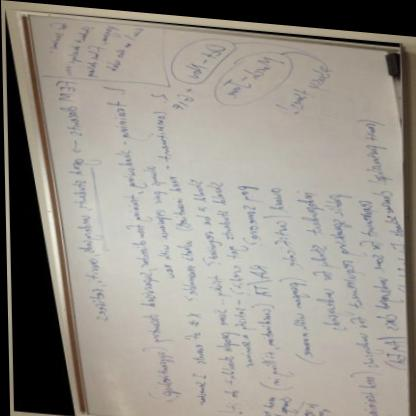Handwritten text: (97, 90, 178, 350), (317, 179, 380, 368), (61, 149, 118, 329), (149, 101, 201, 298), (292, 176, 345, 329), (349, 188, 403, 330), (37, 15, 145, 85), (197, 169, 252, 293), (357, 110, 405, 238), (140, 155, 178, 283), (214, 42, 289, 96), (208, 300, 245, 408), (173, 322, 216, 412), (183, 168, 224, 261), (263, 178, 300, 270), (251, 387, 347, 416), (176, 30, 227, 84), (281, 272, 314, 353), (49, 73, 87, 142), (255, 301, 285, 385), (231, 172, 264, 238), (148, 342, 181, 400), (356, 366, 392, 416), (231, 299, 255, 367), (200, 260, 228, 298)
